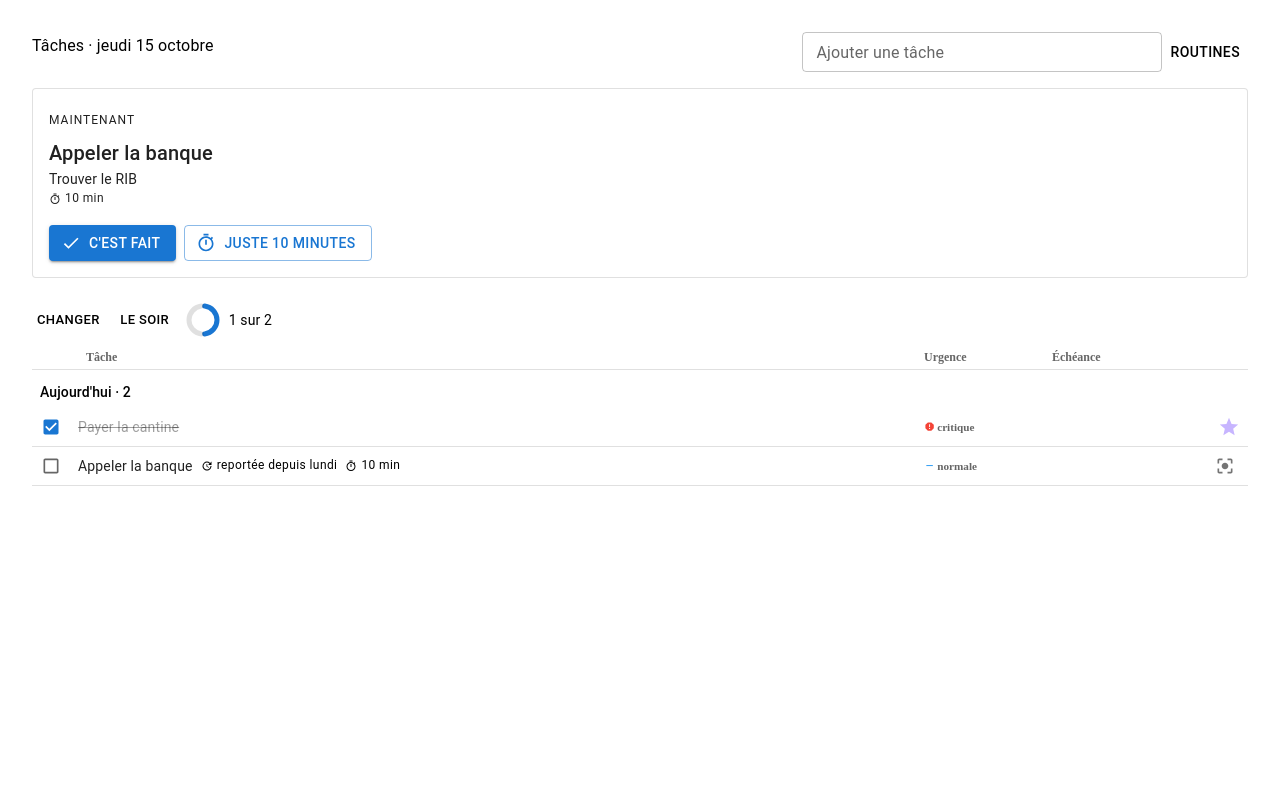
Test: TaskBoard › « Aujourd'hui » — the day of five (MAG-497) › the Focus (MAG-499) › « Plus tard » on the last task left writes nothing and returns to the day
Expected: the element "Maintenant" is shown, [32,88,1248,278]
What coordinates should you click on to do the following:
click the button "Juste 10 minutes"
I would click on:
 (278, 243)
Its box is [184,225,372,261].
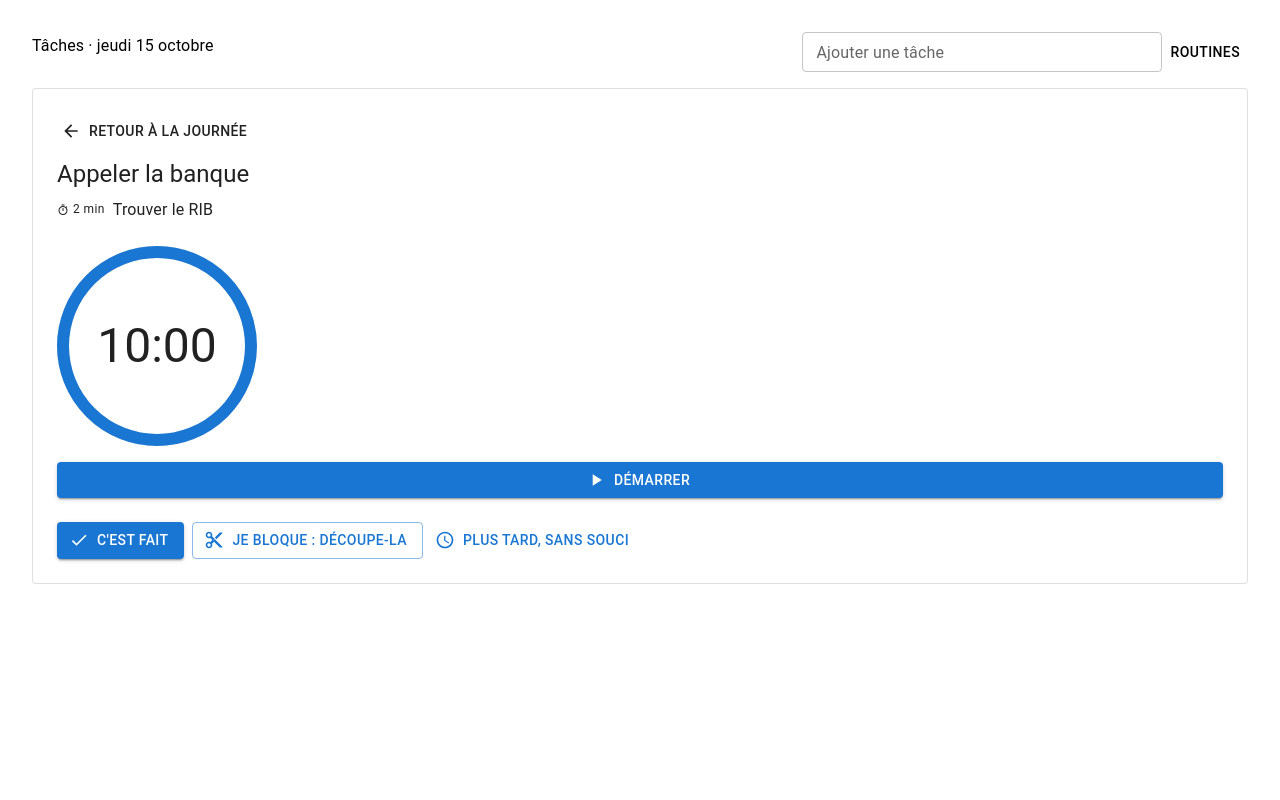
What coordinates should you click on to do the following:
click the button "Plus tard, sans souci"
I would click on:
 (534, 540)
Its box is [431,522,637,558].
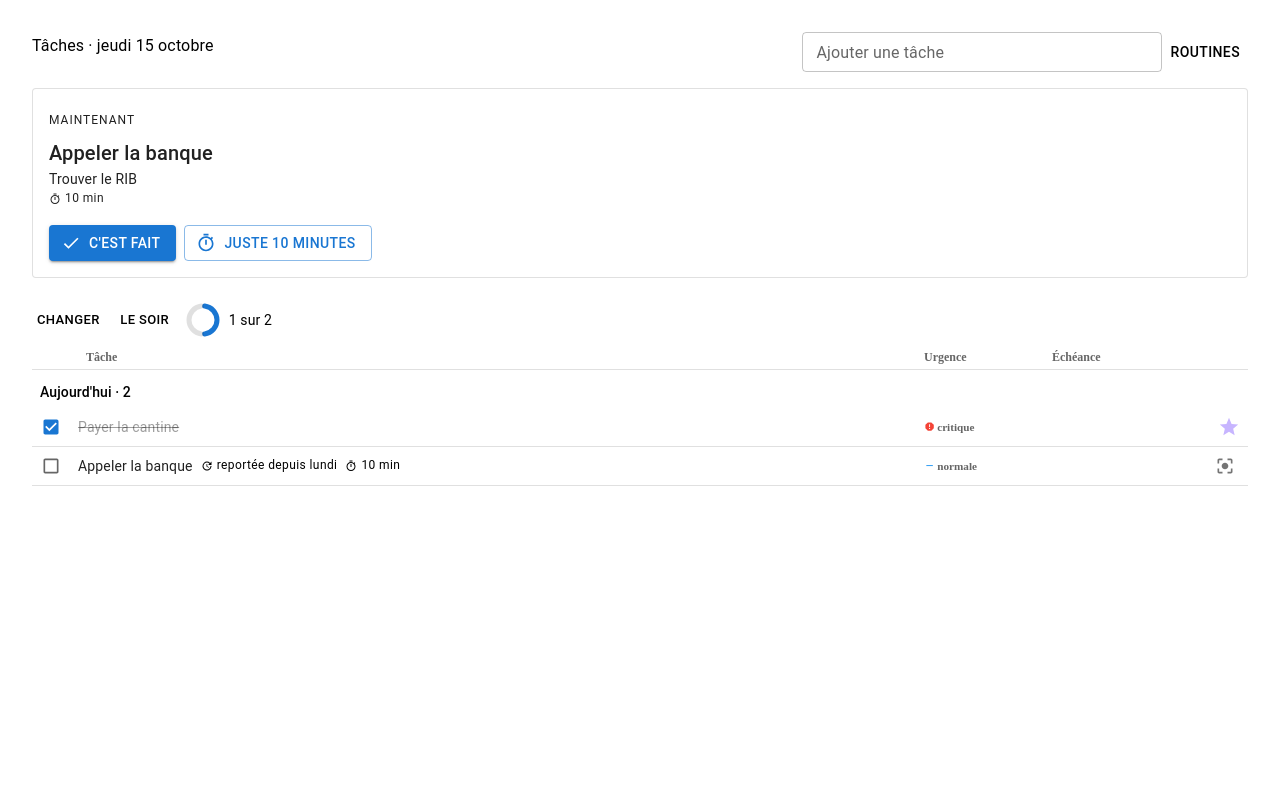
Expected: the list named "Aujourd'hui" is shown, [32,408,1248,486]
